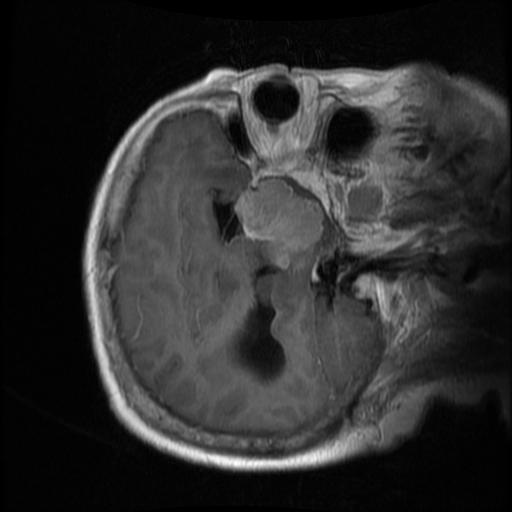meningioma: (234, 179, 322, 252)
